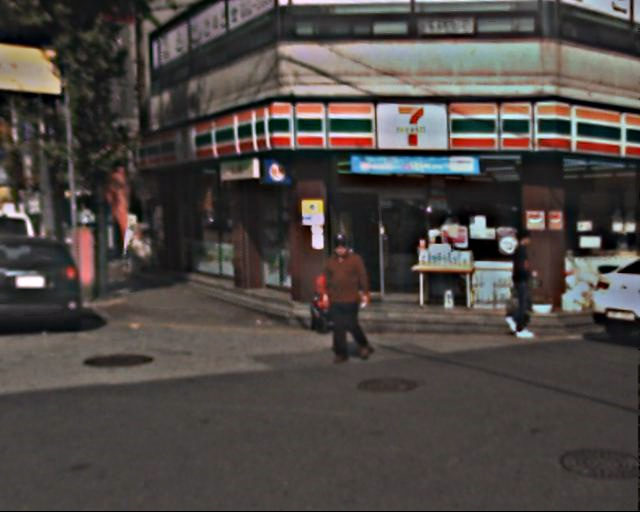person: (320, 233, 385, 363), (500, 227, 553, 345)
